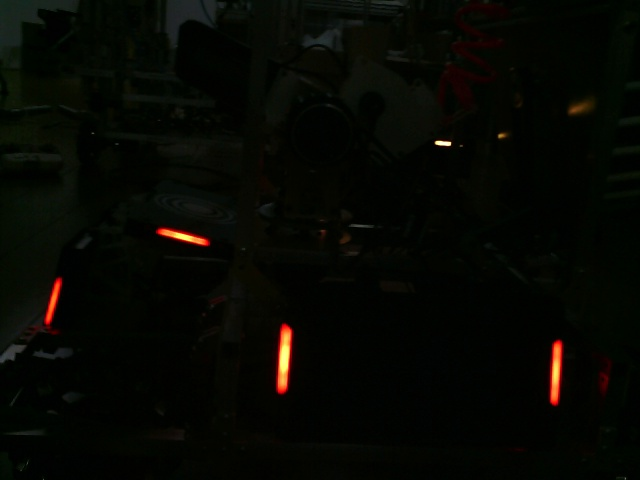lamp: (271, 317, 293, 397), (548, 340, 566, 402), (45, 276, 62, 326)
